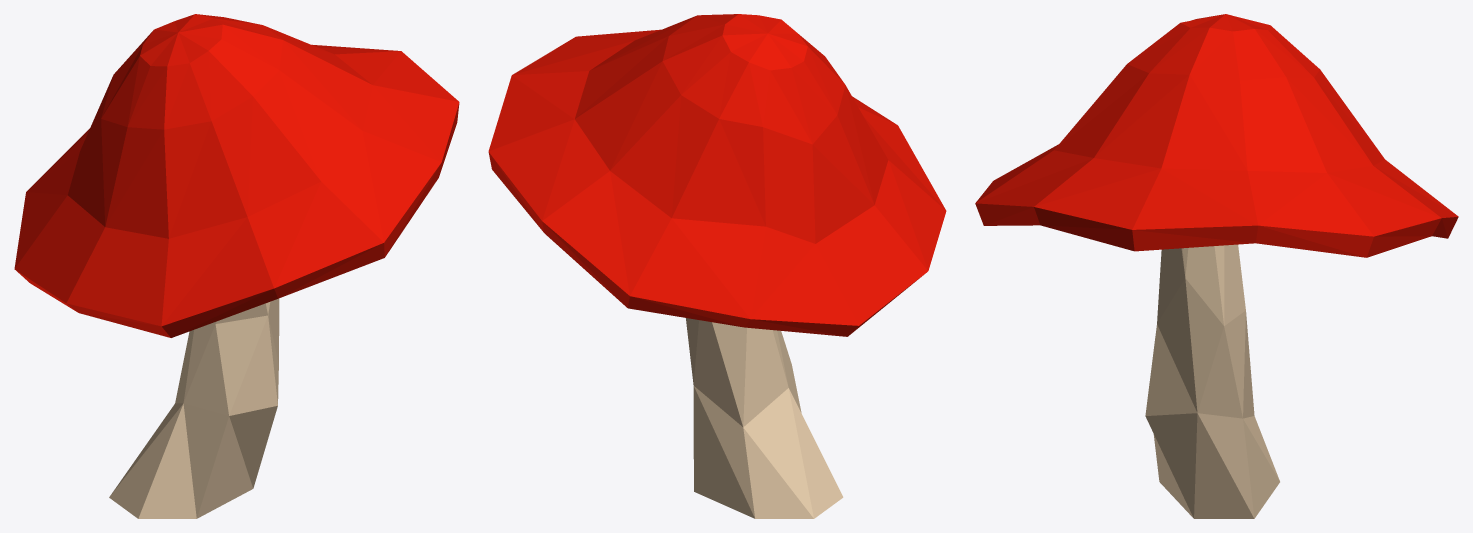
Rendered from Mushroom 2_4.fbx.
3 views of the same model, side by side, from view 1: azimuth 30°, elevation 25°; view 2: azimuth 150°, elevation 25°; view 3: azimuth 270°, elevation 25° (orthographic). The views are drawn at different scales.
Parts seen in each view (by area): view 1: Mushroom 2_4; view 2: Mushroom 2_4; view 3: Mushroom 2_4.
Boxes of the visible parts, x1,y1,x2,y2 form: Mushroom 2_4: (14,14,459,518); Mushroom 2_4: (488,14,946,518); Mushroom 2_4: (975,14,1458,518).
Bounding box in the file's own units: 0.4785 × 0.567 × 0.5181.
